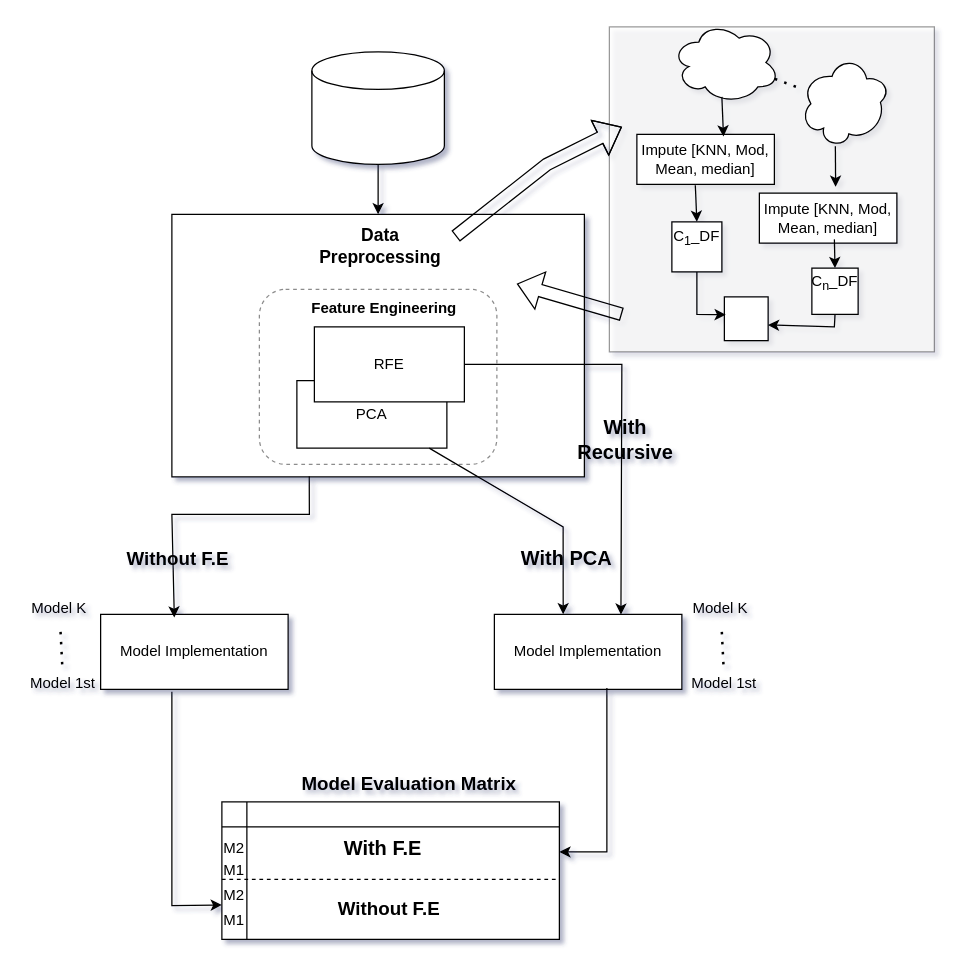
This 964x969 diagram has some shape labels left out. The shapes that lost their labels are listed below. From the top down, each one's centre as x and y in pixels, then its label:
point 725,62: Cluster-1
point 377,107: Dataset
point 842,102: Cluster-N
point 745,318: NI_DF
